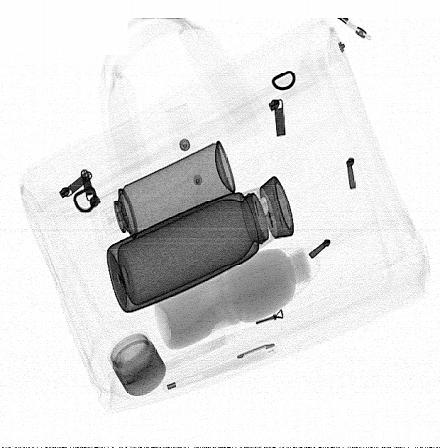Sprayer: (97, 140, 236, 248)
